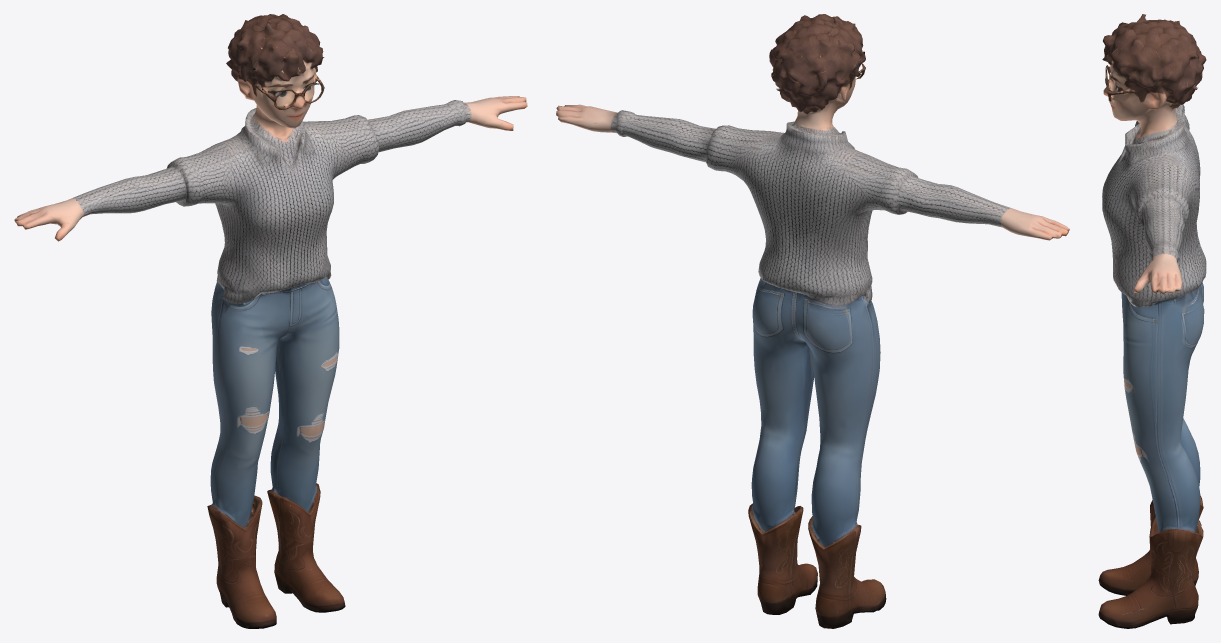
Rendered from LenaAvatarModel.glb.
3 views of the same model, side by side, from view 1: azimuth 30°, elevation 25°; view 2: azimuth 150°, elevation 25°; view 3: azimuth 270°, elevation 25° (orthographic).
Parts seen in each view (by area): view 1: Mesh1.0; view 2: Mesh1.0; view 3: Mesh1.0.
Part boxes in pixels (box(x1,y1,x2,y2)): Mesh1.0: box(14, 14, 527, 628); Mesh1.0: box(556, 14, 1069, 628); Mesh1.0: box(1098, 14, 1206, 628).
Size of the model in its own units: 1.73 by 1.91 by 0.3198.
Materials: 1 (1 with a texture image).
